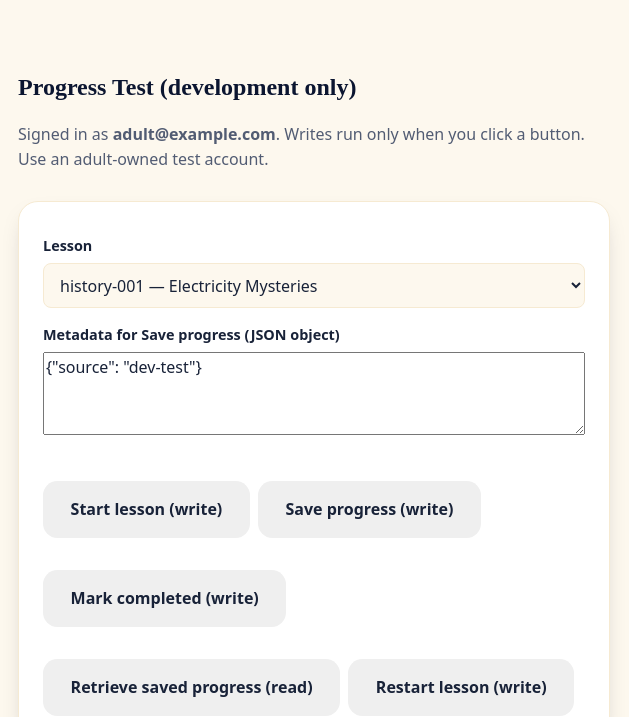
Test case: ProgressTestPage › rejects metadata that is a JSON array
Replace the text in the text box labelled "Metadata for Save progress (JSON object)" with "[1,2]" at (314, 394), box [43, 352, 585, 435]
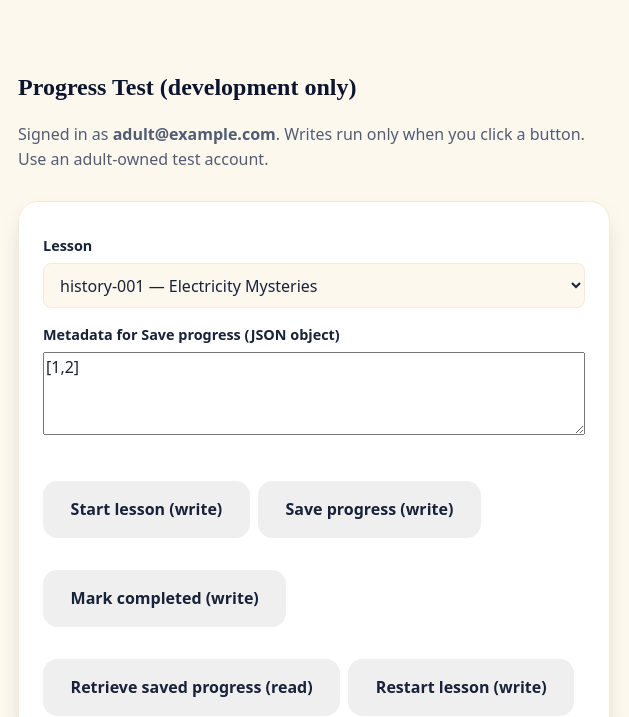
Click the button "Save progress (write)" at (369, 510), box [258, 481, 481, 538]
(page scrolled)
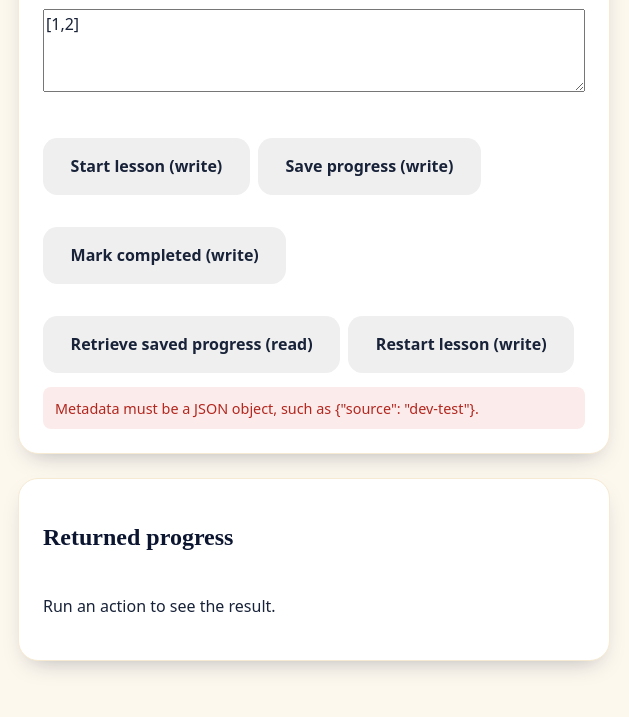
Result: the message shows "must be a JSON object" at [55, 399, 479, 418]
